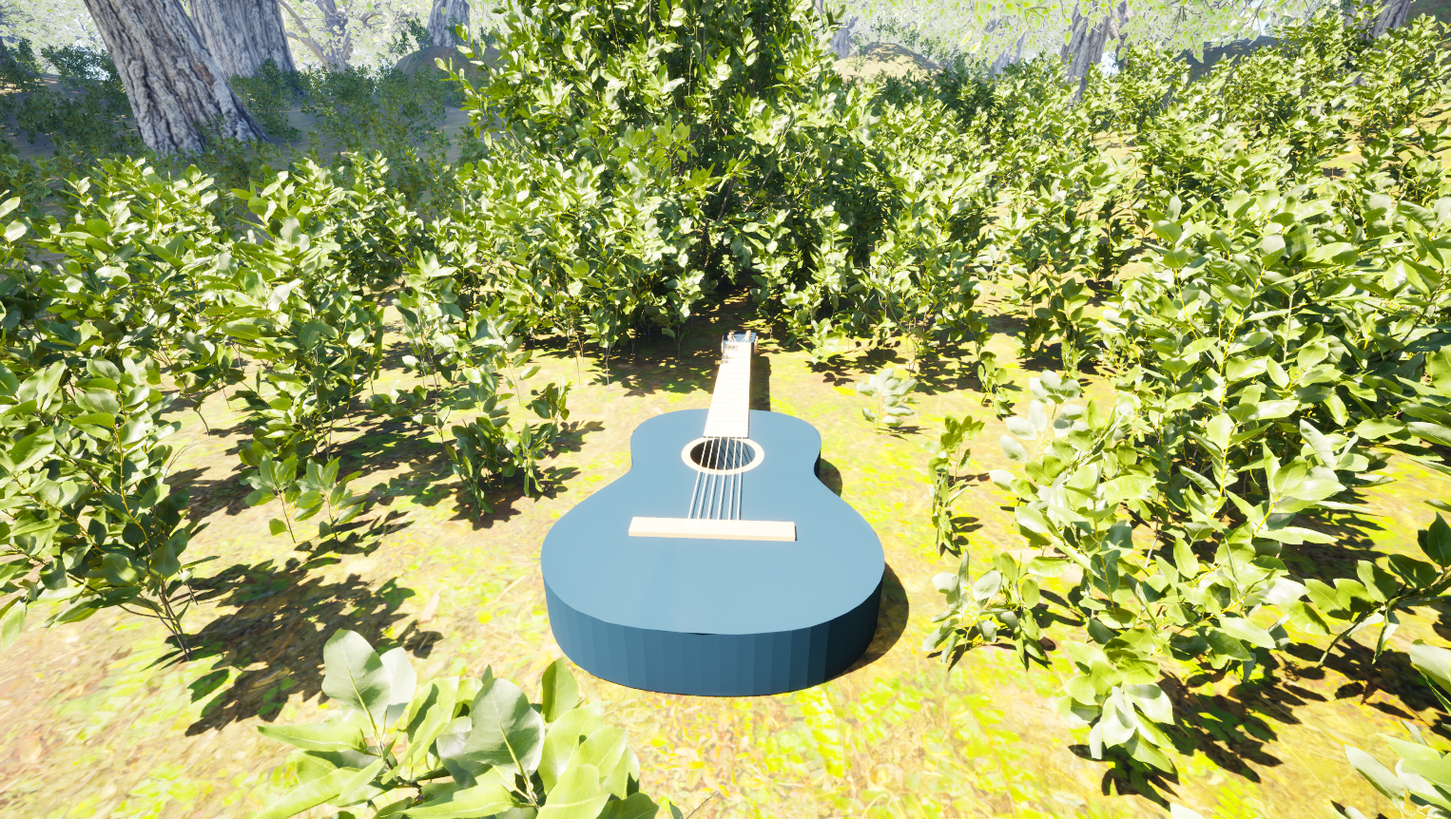Guitar: (497, 319, 911, 705)
